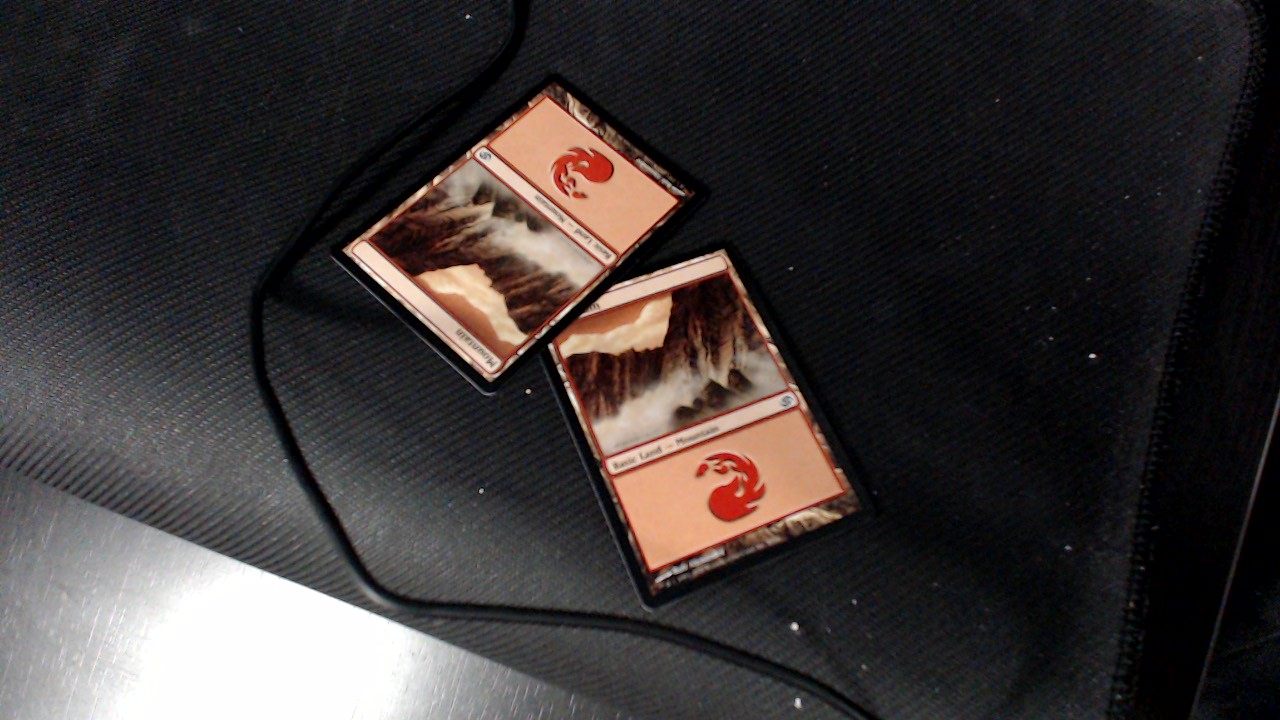MTG Card: (520, 238, 889, 624), (315, 71, 712, 401)
